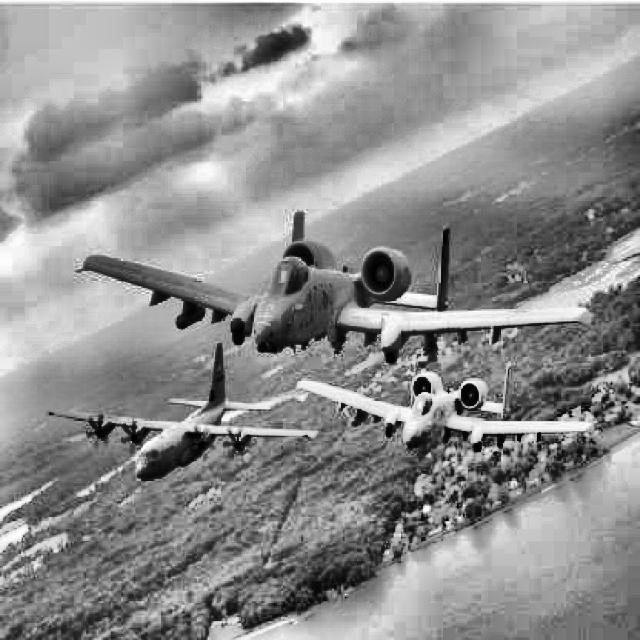A10: (75, 211, 593, 367), (296, 348, 595, 448)
C130: (44, 342, 319, 481)
